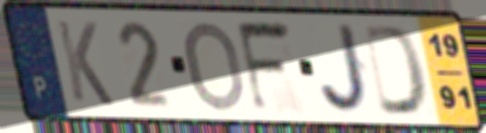2: (115, 19, 174, 111)
D: (360, 22, 431, 118)
F: (233, 18, 297, 117)
J: (316, 22, 375, 117)
K: (52, 17, 117, 109)
O: (183, 18, 249, 114)
